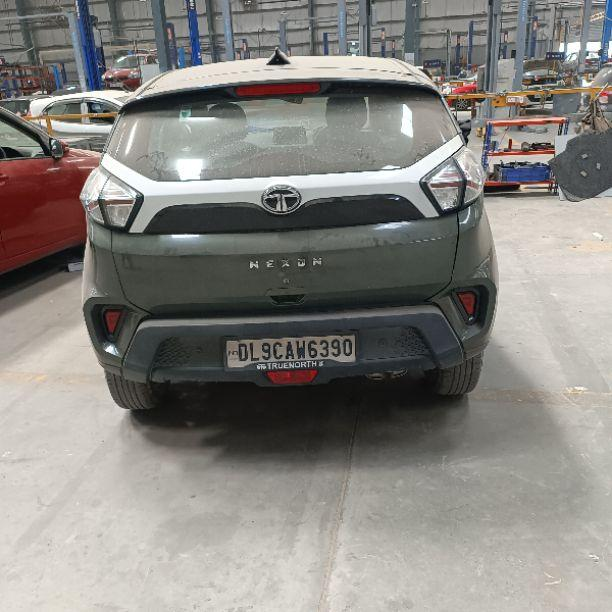license_plate: (222, 332, 357, 370)
